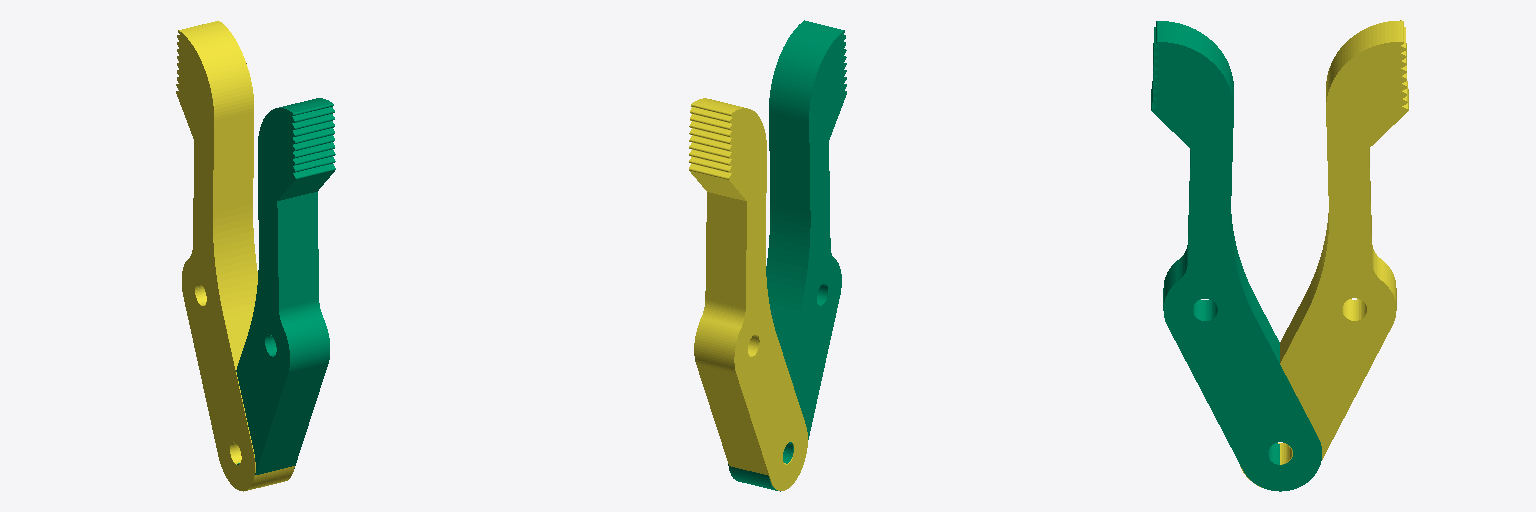
robot.urdf — LeArm:
<?xml version="1.0"?>
<robot name="LeArm">
	<!-- UNITS DISTANCE(METERS) ROTATION(RADIANS) -->
	<link name="base_link">
		<visual>
			<geometry>
				<mesh filename="package://learm-ros/meshes/base.stl"/>
			</geometry>
		</visual>
	</link>
	<link name="shoulder_link">
		<visual>
			<geometry>
				<mesh filename="package://learm-ros/meshes/shoulder.stl"/>
			</geometry>
		</visual>
	</link>
	<link name="humerus_link">
		<visual>
			<geometry>
				<mesh filename="package://learm-ros/meshes/humerus.stl"/>
			</geometry>
		</visual>
	</link>
	<link name="forearm_link">
		<visual>
			<geometry>
				<mesh filename="package://learm-ros/meshes/forearm.stl"/>
			</geometry>
		</visual>
	</link>
	<link name="wrist_link">
		<visual>
			<geometry>
				<mesh filename="package://learm-ros/meshes/wrist.stl"/>
			</geometry>
		</visual>
	</link>
	<link name="hand_link">
		<visual>
			<geometry>
				<mesh filename="package://learm-ros/meshes/hand.stl"/>
			</geometry>
		</visual>
	</link>
	<link name="grip_left_link">
		<visual>
			<geometry>
				<mesh filename="package://learm-ros/meshes/carpal-left.stl"/>
			</geometry>
		</visual>
	</link>
	<link name="grip_right_link">
		<visual>
			<geometry>
				<mesh filename="package://learm-ros/meshes/carpal-right.stl"/>
			</geometry>
		</visual>
	</link>
	<link name="tendon_left_link">
		<visual>
			<geometry>
				<mesh filename="package://learm-ros/meshes/tendon.stl"/>
			</geometry>
		</visual>
	</link>
	<link name="tendon_right_link">
		<visual>
			<geometry>
				<mesh filename="package://learm-ros/meshes/tendon.stl"/>
			</geometry>
		</visual>
	</link>
	<link name="finger_left_link">
		<visual>
			<geometry>
				<mesh filename="package://learm-ros/meshes/finger.stl"/>
			</geometry>
		</visual>
	</link>
	<link name="finger_right_link">
		<visual>
			<origin rpy="0 0 3.14159"/>
			<geometry>
				<mesh filename="package://learm-ros/meshes/finger.stl"/>
			</geometry>
		</visual>
	</link>

	<joint name="shoulder_pan" type="revolute">
		<parent link="base_link"/>
		<child link="shoulder_link"/>
		<origin xyz="0 0 0.059"/>
		<axis xyz="0 0 1"/>
		<limit lower="-1.57" upper="1.57" effort="1000" velocity="0.5"/>
	</joint>
	<joint name="shoulder_lift" type="revolute">
		<parent link="shoulder_link"/>
		<child link="humerus_link"/>
		<origin xyz="-0.010 0 0.028"/>
		<axis xyz="0 1 0"/>
		<limit lower="-1.57" upper="1.57" effort="1000" velocity="0.5"/>
	</joint>
	<joint name="elbow" type="revolute">
		<parent link="humerus_link"/>
		<child link="forearm_link"/>
		<origin xyz="0 0 0.105"/>
		<axis xyz="0 1 0"/>
		<limit lower="-1.57" upper="1.57" effort="1000" velocity="0.5"/>
	</joint>
	<joint name="wrist_flex" type="revolute">
		<parent link="forearm_link"/>
		<child link="wrist_link"/>
		<origin xyz="0 0 0.090"/>
		<axis xyz="0 1 0"/>
		<limit lower="-1.57" upper="1.57" effort="1000" velocity="0.5"/>
	</joint>
	<joint name="wrist_roll" type="revolute">
		<parent link="wrist_link"/>
		<child link="hand_link"/>
		<origin xyz="0 0 0.060"/>
		<axis xyz="0 0 1"/>
		<limit lower="-1.57" upper="1.57" effort="1000" velocity="0.5"/>
	</joint>
	<joint name="grip_left" type="revolute">
		<parent link="hand_link"/>
		<child link="grip_left_link"/>
		<origin xyz="0 +0.015 0.030"/>
		<axis xyz="1 0 0"/>
		<limit lower="-1.57" upper="0" effort="1000" velocity="0.5"/>
	</joint>
	<joint name="grip_right" type="revolute">
		<parent link="hand_link"/>
		<child link="grip_right_link"/>
		<origin xyz="0 -0.015 0.030"/>
		<axis xyz="1 0 0"/>
		<limit lower="0" upper="1.57" effort="1000" velocity="0.5"/>
		<mimic joint="grip_left" multiplier="-1"/>
	</joint>
	<joint name="tendon_left" type="revolute">
		<parent link="hand_link"/>
		<child link="tendon_left_link"/>
		<origin xyz="0 +0.005 0.050"/>
		<axis xyz="1 0 0"/>
		<limit lower="-1.57" upper="0" effort="1000" velocity="0.5"/>
		<mimic joint="grip_left"/>
	</joint>
	<joint name="tendon_right" type="revolute">
		<parent link="hand_link"/>
		<child link="tendon_right_link"/>
		<origin xyz="0 -0.005 0.050"/>
		<axis xyz="1 0 0"/>
		<limit lower="0" upper="1.57" effort="1000" velocity="0.5"/>
		<mimic joint="grip_left" multiplier="-1"/>
	</joint>
	<joint name="finger_left" type="revolute">
		<parent link="grip_left_link"/>
		<child link="finger_left_link"/>
		<origin xyz="0 0 0.030"/>
		<axis xyz="1 0 0"/>
		<limit lower="-1.57" upper="0" effort="1000" velocity="0.5"/>
		<mimic joint="grip_left" multiplier="-1"/>
	</joint>
	<joint name="finger_right" type="revolute">
		<parent link="grip_right_link"/>
		<child link="finger_right_link"/>
		<origin xyz="0 0 0.030"/>
		<axis xyz="1 0 0"/>
		<limit lower="0" upper="1.57" effort="1000" velocity="0.5"/>
		<mimic joint="grip_left"/>
	</joint>
</robot>

--- What the picture shows (computed from the rendered views, not written in the file) ---
The picture shows the robot from 3 angles, left to right: view 1: azimuth 30°, elevation 25°; view 2: azimuth 150°, elevation 25°; view 3: azimuth 270°, elevation 25°; orthographic projection.
Model LeArm with 12 links and 11 joints (11 revolute), rooted at base_link, posed all joints at 0.
Links seen in each view (by area): view 1: finger_right_link, finger_left_link; view 2: finger_right_link, finger_left_link; view 3: finger_left_link, finger_right_link.
Link boxes in pixels (<box>): finger_right_link: <box>176,21,294,491</box>; finger_left_link: <box>236,98,335,474</box>; finger_right_link: <box>689,98,807,490</box>; finger_left_link: <box>728,20,846,491</box>; finger_left_link: <box>1151,21,1321,491</box>; finger_right_link: <box>1240,20,1408,487</box>.
Bounding box of the posed robot: 6.09 × 30.76 × 59.34 m (x, y, z).
Meshes: 10 distinct files referenced, 9 mesh visuals loaded (7 binary STL); not drawn: 3 (reference not matched to a file when rendering).